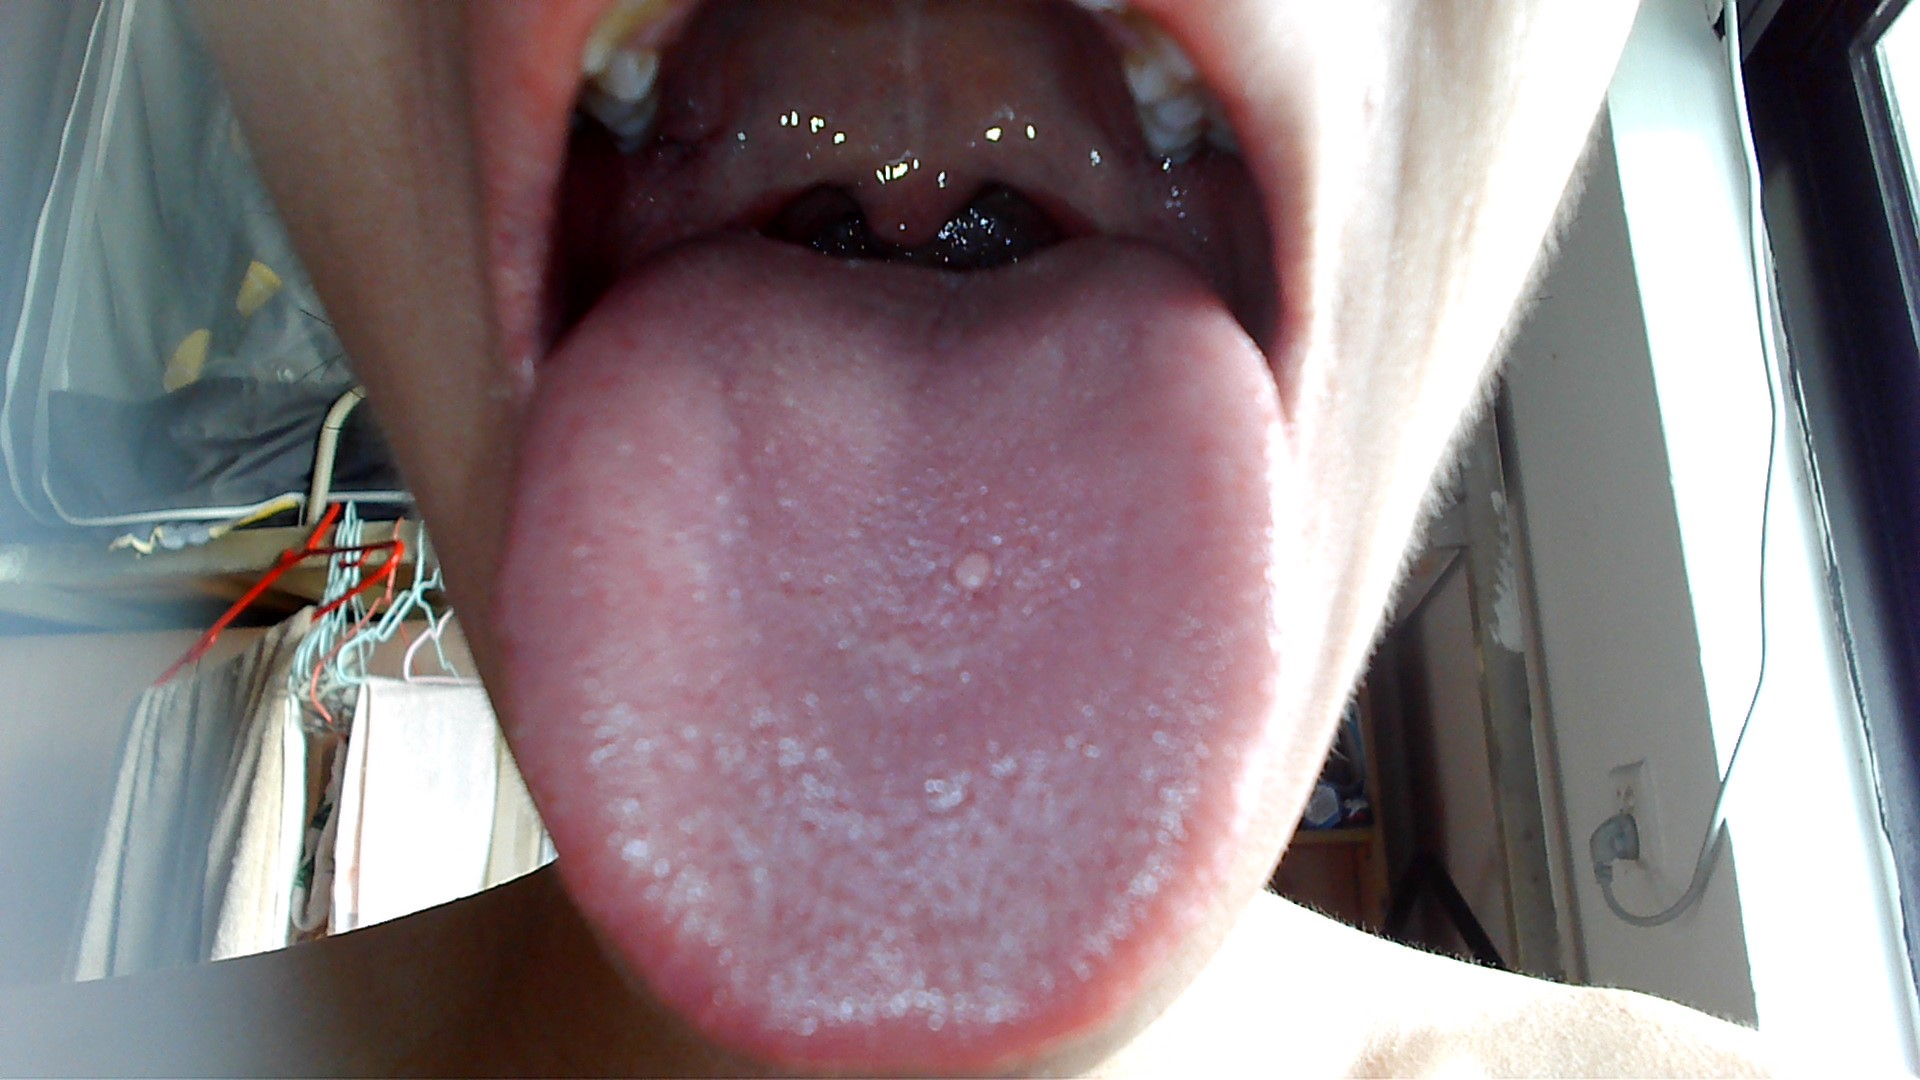throat: (698, 164, 810, 228), (1022, 167, 1122, 236)
